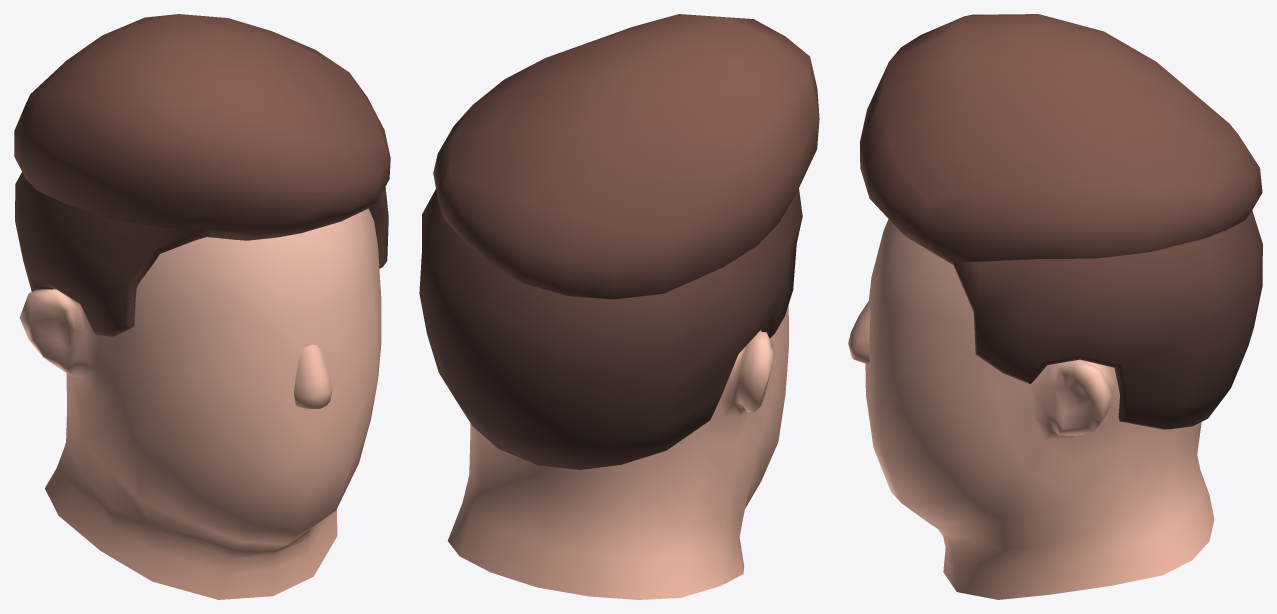
The model's file is PlusSize_Male_Head_01.fbx.
3 views of the same model, side by side, from view 1: azimuth 30°, elevation 25°; view 2: azimuth 150°, elevation 25°; view 3: azimuth 270°, elevation 25° (orthographic). The views are drawn at different scales.
Parts seen in each view (by area): view 1: PlusSize_Male_Head_01; view 2: PlusSize_Male_Head_01; view 3: PlusSize_Male_Head_01.
Part boxes in pixels (left/top/right/bottom): PlusSize_Male_Head_01: left=14, top=14, right=390, bottom=599; PlusSize_Male_Head_01: left=419, top=14, right=819, bottom=599; PlusSize_Male_Head_01: left=848, top=14, right=1262, bottom=599.
Size of the model in its own units: 24.34 by 26.5 by 36.63.
